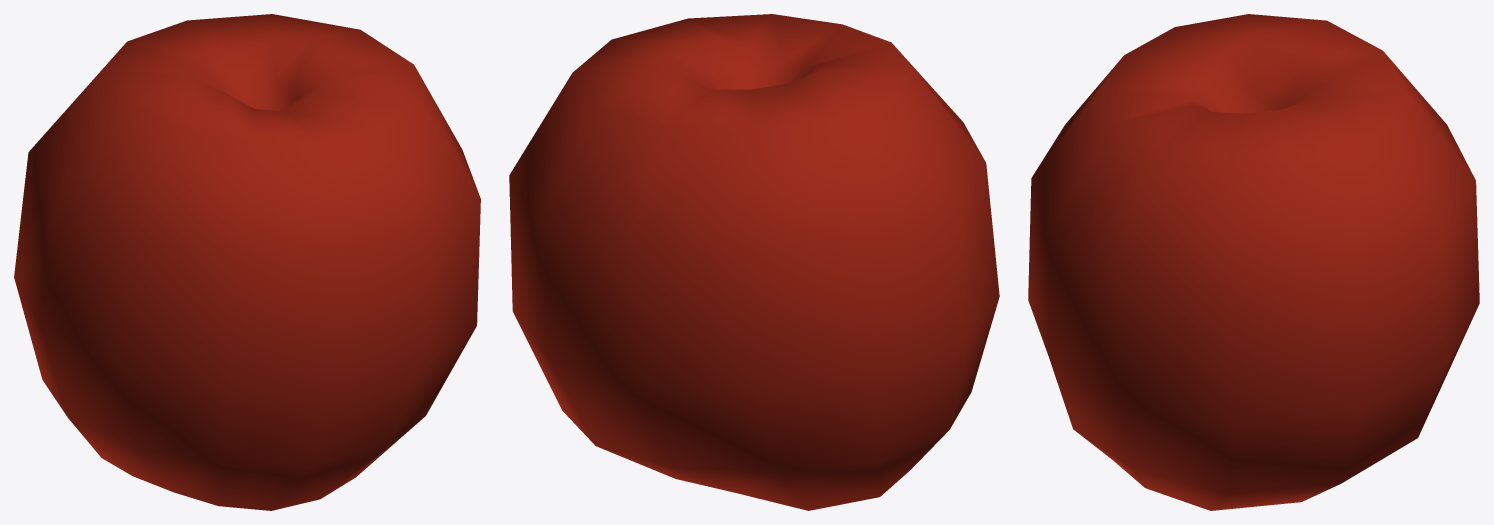
Rendered from SM_Apple.fbx.
3 views of the same model, side by side, from view 1: azimuth 30°, elevation 25°; view 2: azimuth 150°, elevation 25°; view 3: azimuth 270°, elevation 25° (orthographic). The views are drawn at different scales.
Visible parts, largest first — view 1: SM_Apple; view 2: SM_Apple; view 3: SM_Apple.
Part boxes in pixels (x1=…): SM_Apple: x1=14, y1=14, x2=480, y2=510; SM_Apple: x1=509, y1=14, x2=999, y2=510; SM_Apple: x1=1028, y1=14, x2=1479, y2=510.
Size of the model in its own units: 6.92 by 6.59 by 6.58.
Materials: 1 (1 with a texture image).
